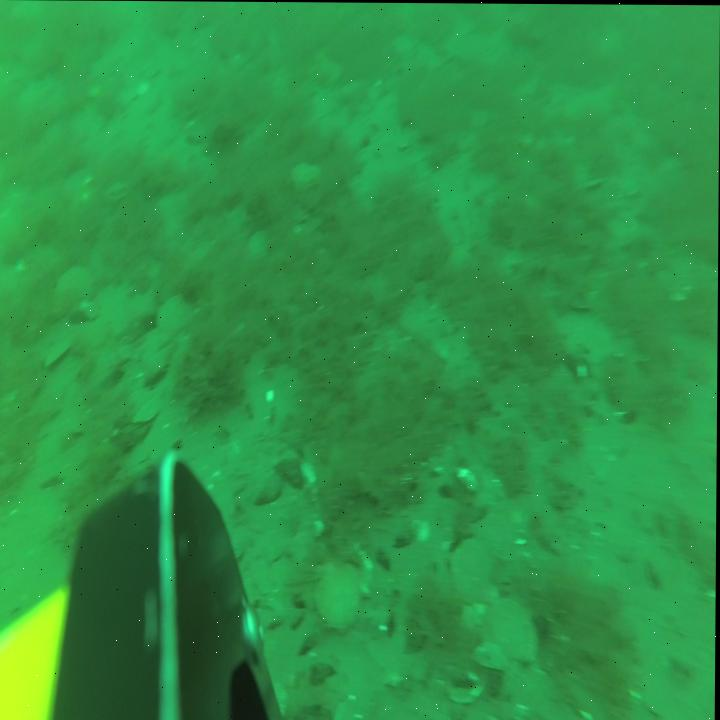scallop: (475, 594, 540, 672), (312, 564, 365, 631), (446, 533, 496, 604), (53, 263, 95, 312), (291, 158, 324, 196)
